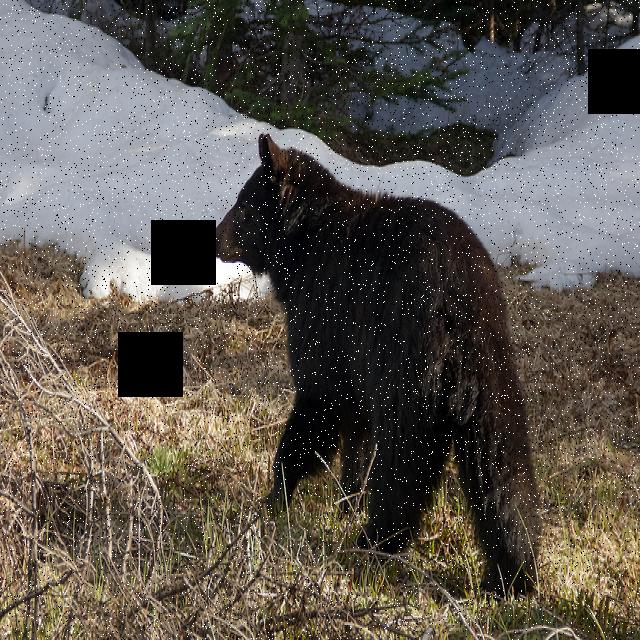Bear: (206, 118, 546, 594)
